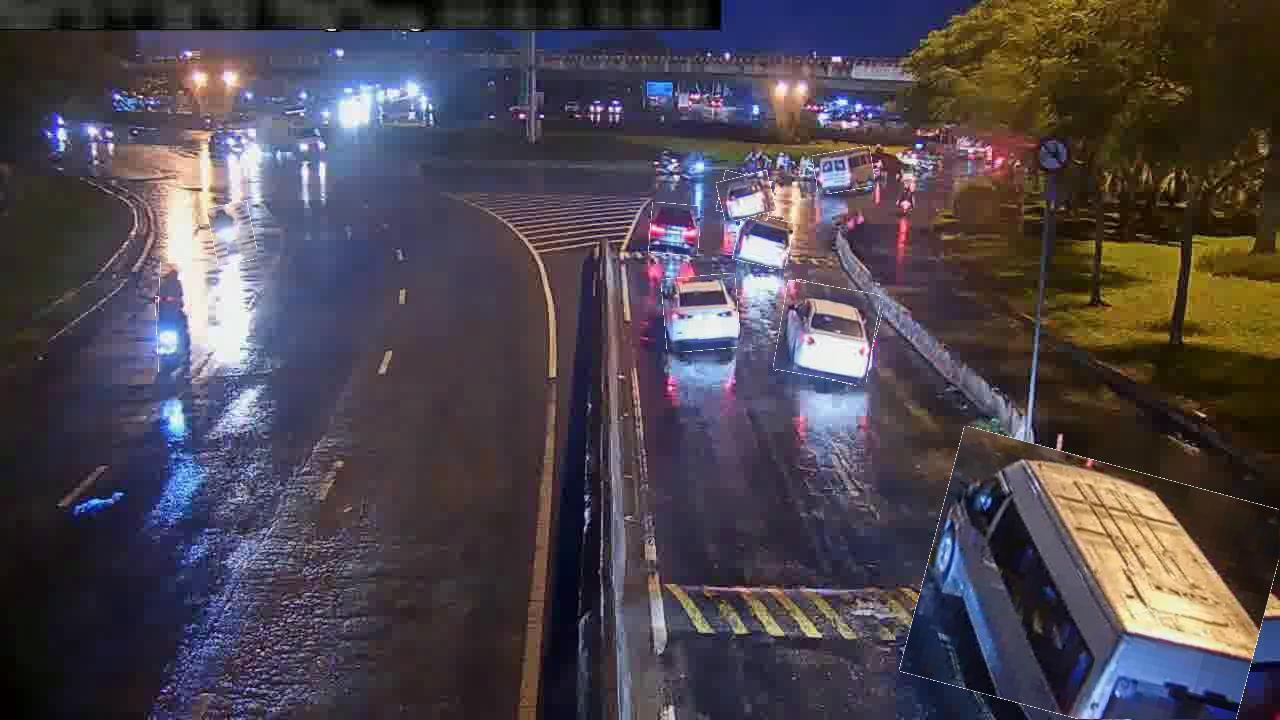14: (912, 445, 1278, 719), (776, 284, 878, 382), (814, 149, 875, 193), (718, 173, 774, 220)
container: (779, 284, 880, 382), (662, 274, 740, 352), (735, 215, 792, 268), (649, 203, 700, 255), (718, 173, 774, 220)
motorbike: (209, 202, 256, 265), (156, 296, 191, 373), (159, 263, 185, 313)
